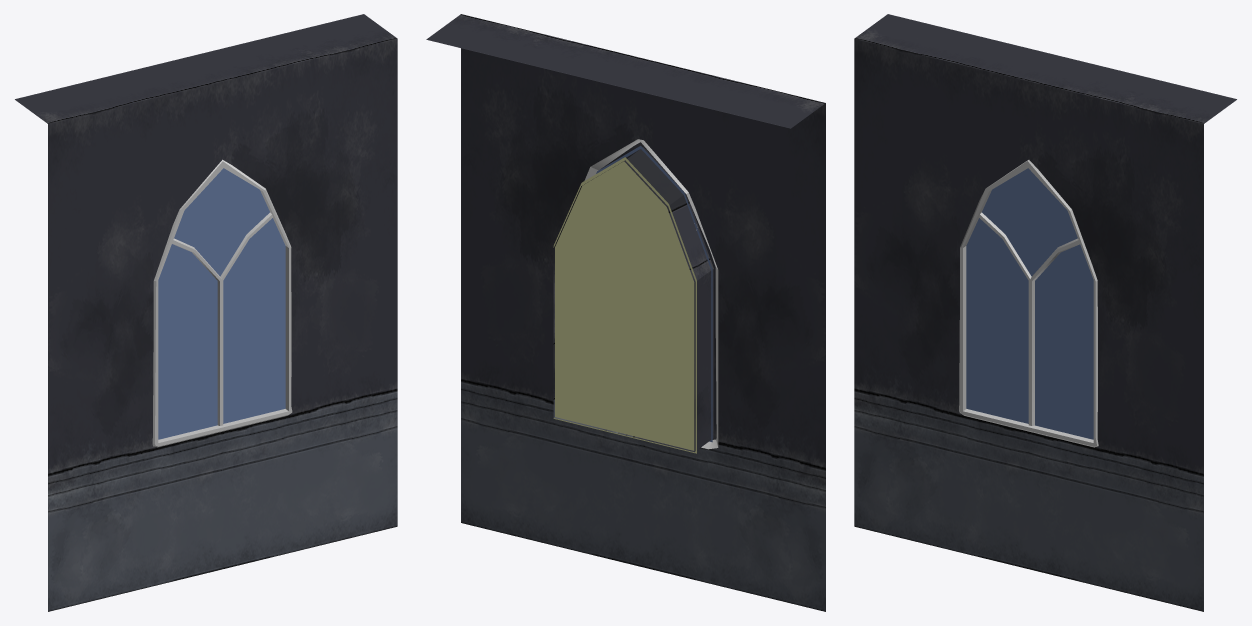
File: motherRoom_wall_window.fbx
The picture shows the model from 3 angles, left to right: view 1: azimuth 30°, elevation 25°; view 2: azimuth 150°, elevation 25°; view 3: azimuth 330°, elevation 25°; orthographic projection. The views are drawn at different scales.
Visible parts, largest first — view 1: motherRoom_wall_outer01; view 2: motherRoom_wall_outer01; view 3: motherRoom_wall_outer01.
Boxes of the visible parts, left/top/right/bottom form: motherRoom_wall_outer01: left=15, top=14, right=397, bottom=611; motherRoom_wall_outer01: left=426, top=14, right=825, bottom=611; motherRoom_wall_outer01: left=854, top=14, right=1236, bottom=611.
Size of the model in its own units: 300 by 400 by 51.28.
